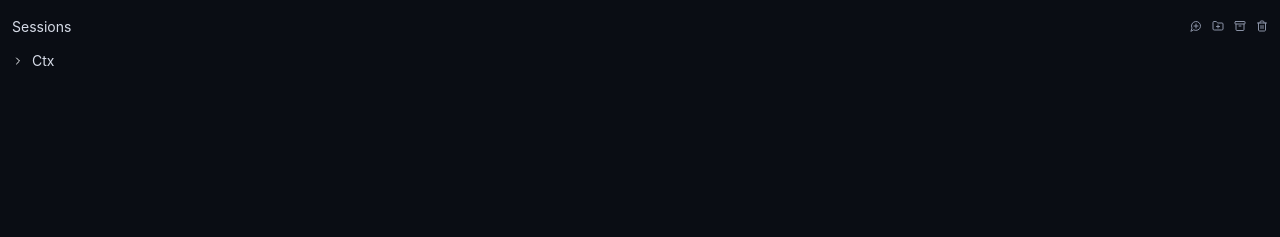
Test: <FolderTree> › right-click opens the context menu with the right entries
Right-click the list item "Ctx".
right_click(33, 60)  # box left=12, top=52, right=54, bottom=69
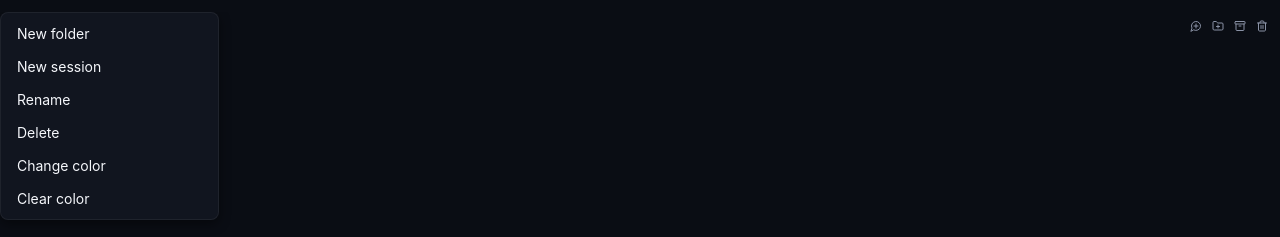
Check: the button with test id "ctx-new-folder" is shown, box left=5, top=17, right=214, bottom=50
Check: the button with test id "ctx-new-chat" is shown, box left=5, top=50, right=214, bottom=83
Check: the button with test id "ctx-rename" is shown, box left=5, top=83, right=214, bottom=116
